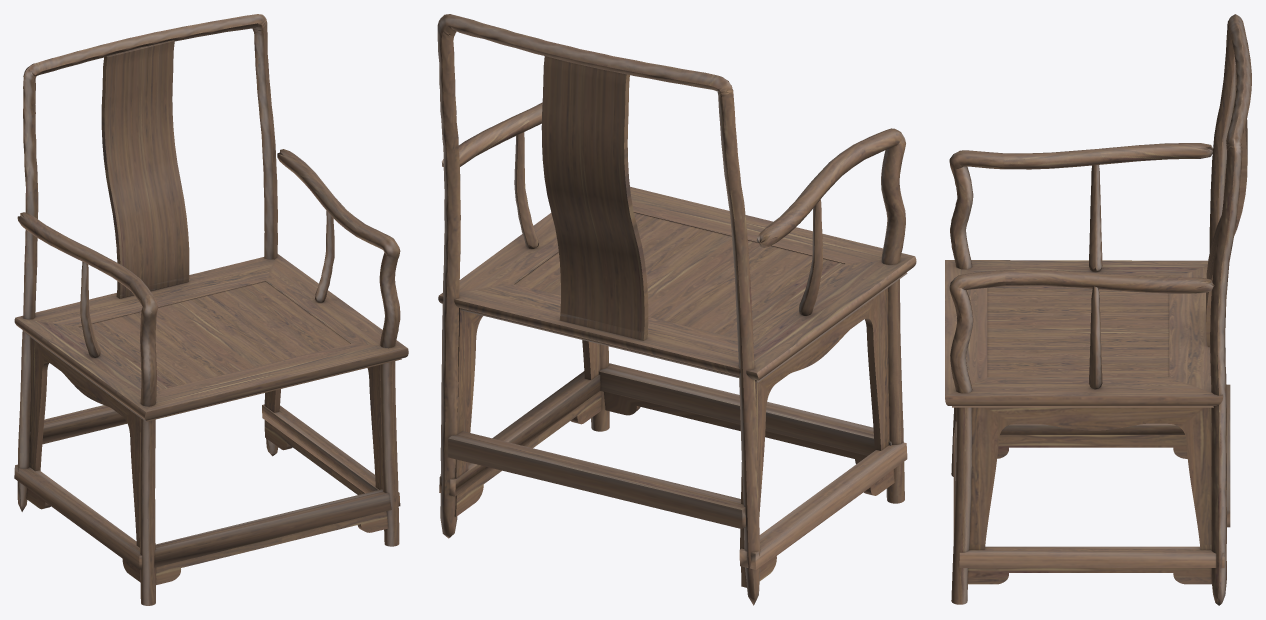
The model's file is raw_model.obj.
3 renders of one model, left to right at view 1: azimuth 30°, elevation 25°; view 2: azimuth 150°, elevation 25°; view 3: azimuth 270°, elevation 25°, orthographic. The views are drawn at different scales.
Parts seen in each view (by area): view 1: solid_001, solid_002; view 2: solid_001, solid_002; view 3: solid_002, solid_001.
Part boxes in pixels (box(x1,y1,x2,y2)): solid_001: box(14, 14, 408, 584); solid_002: box(14, 149, 400, 605); solid_001: box(437, 14, 916, 605); solid_002: box(439, 102, 907, 587); solid_002: box(949, 143, 1230, 604); solid_001: box(945, 14, 1251, 605).
Bounding box in the file's own units: 0.5623 × 0.8741 × 0.5154.
1 material, 1 textured.
